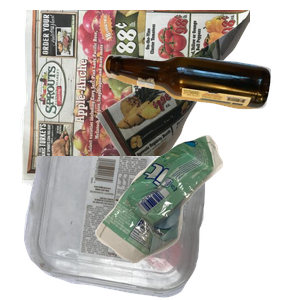glass: (101, 52, 300, 154)
paper: (18, 10, 258, 190)
plastic: (21, 156, 226, 300)
trash: (92, 133, 300, 300)
